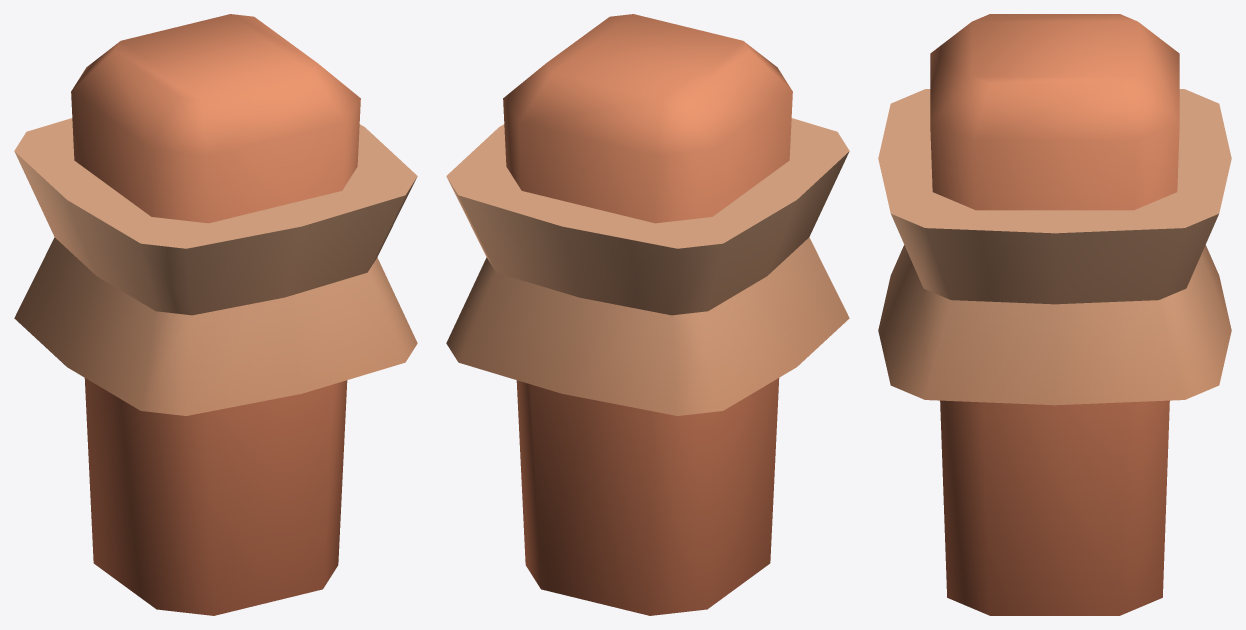
Rendered from arena_peg.glb.
The picture shows the model from 3 angles, left to right: view 1: azimuth 30°, elevation 25°; view 2: azimuth 150°, elevation 25°; view 3: azimuth 270°, elevation 25°; orthographic projection. The views are drawn at different scales.
Visible parts, largest first — view 1: fence; view 2: fence; view 3: fence.
Boxes of the visible parts, x1,y1,x2,y2 form: fence: [14, 14, 417, 615]; fence: [446, 14, 849, 615]; fence: [878, 14, 1231, 615].
Size of the model in its own units: 0.2458 by 0.4 by 0.2458.
Materials: 1 (1 with a texture image).
